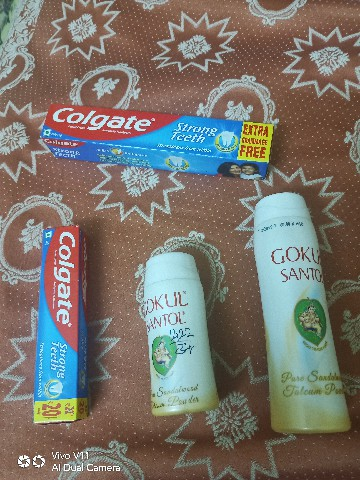colgatetoothpaste big: (33, 96, 297, 186)
colgatetoothpaste small: (24, 214, 110, 435)
gokulsantol big: (233, 186, 360, 439)
gokulsantol small: (137, 249, 234, 430)
